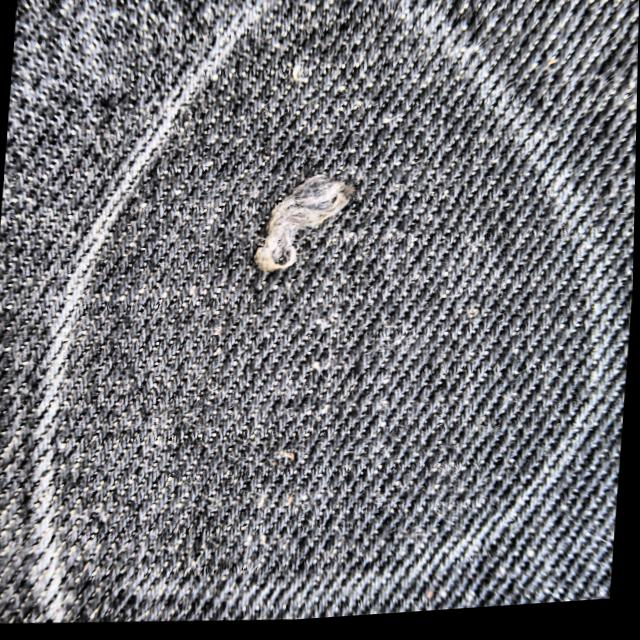Hole: (249, 179, 355, 277)
